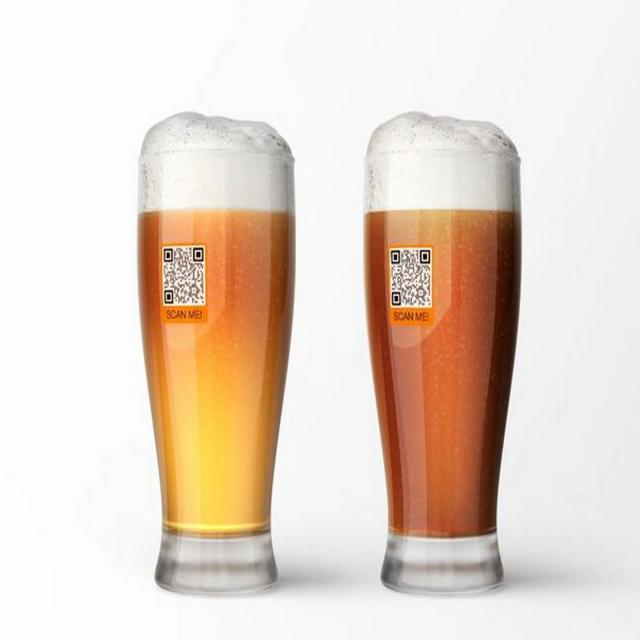qr_code: (160, 244, 206, 310), (389, 246, 432, 310)
